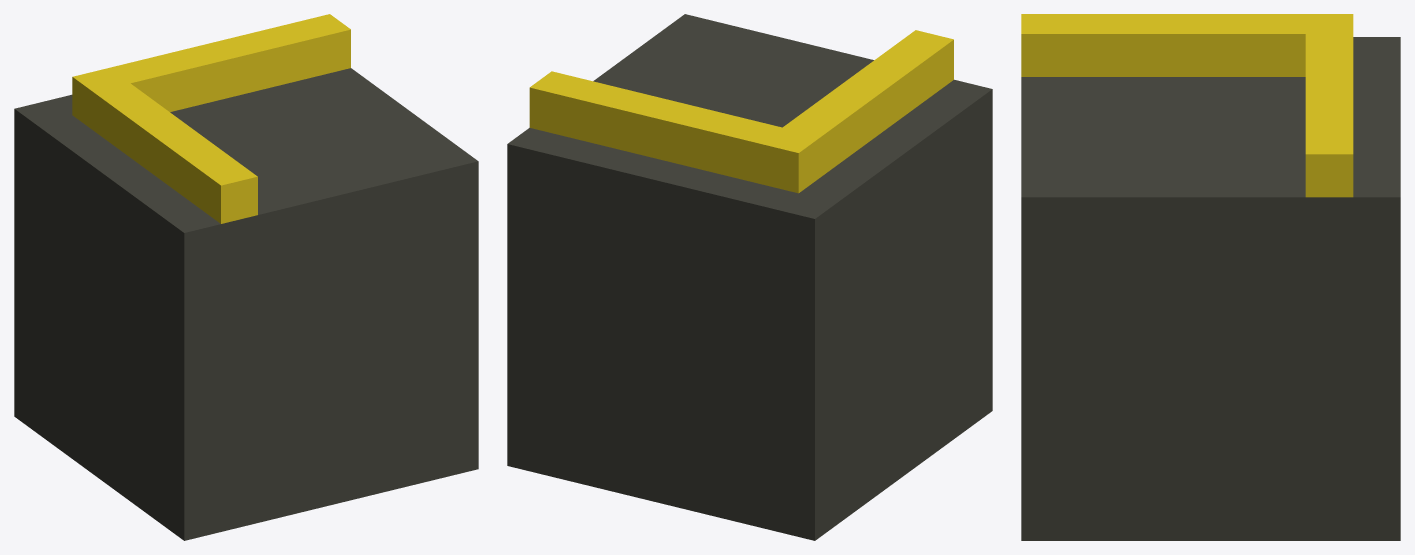
Rendered from LongCornerBorder.fbx.
3 renders of one model, left to right at view 1: azimuth 30°, elevation 25°; view 2: azimuth 150°, elevation 25°; view 3: azimuth 270°, elevation 25°, orthographic. The views are drawn at different scales.
Parts seen in each view (by area): view 1: Border, Outline; view 2: Border, Outline; view 3: Border, Outline.
Part boxes in pixels (x1,y1,x2,y2): Border: (14,68,478,540); Outline: (72,14,350,223); Border: (507,14,992,540); Outline: (529,30,953,193); Border: (1021,37,1400,540); Outline: (1021,14,1353,197).
Bounding box in the file's own units: 100 × 112 × 100.
